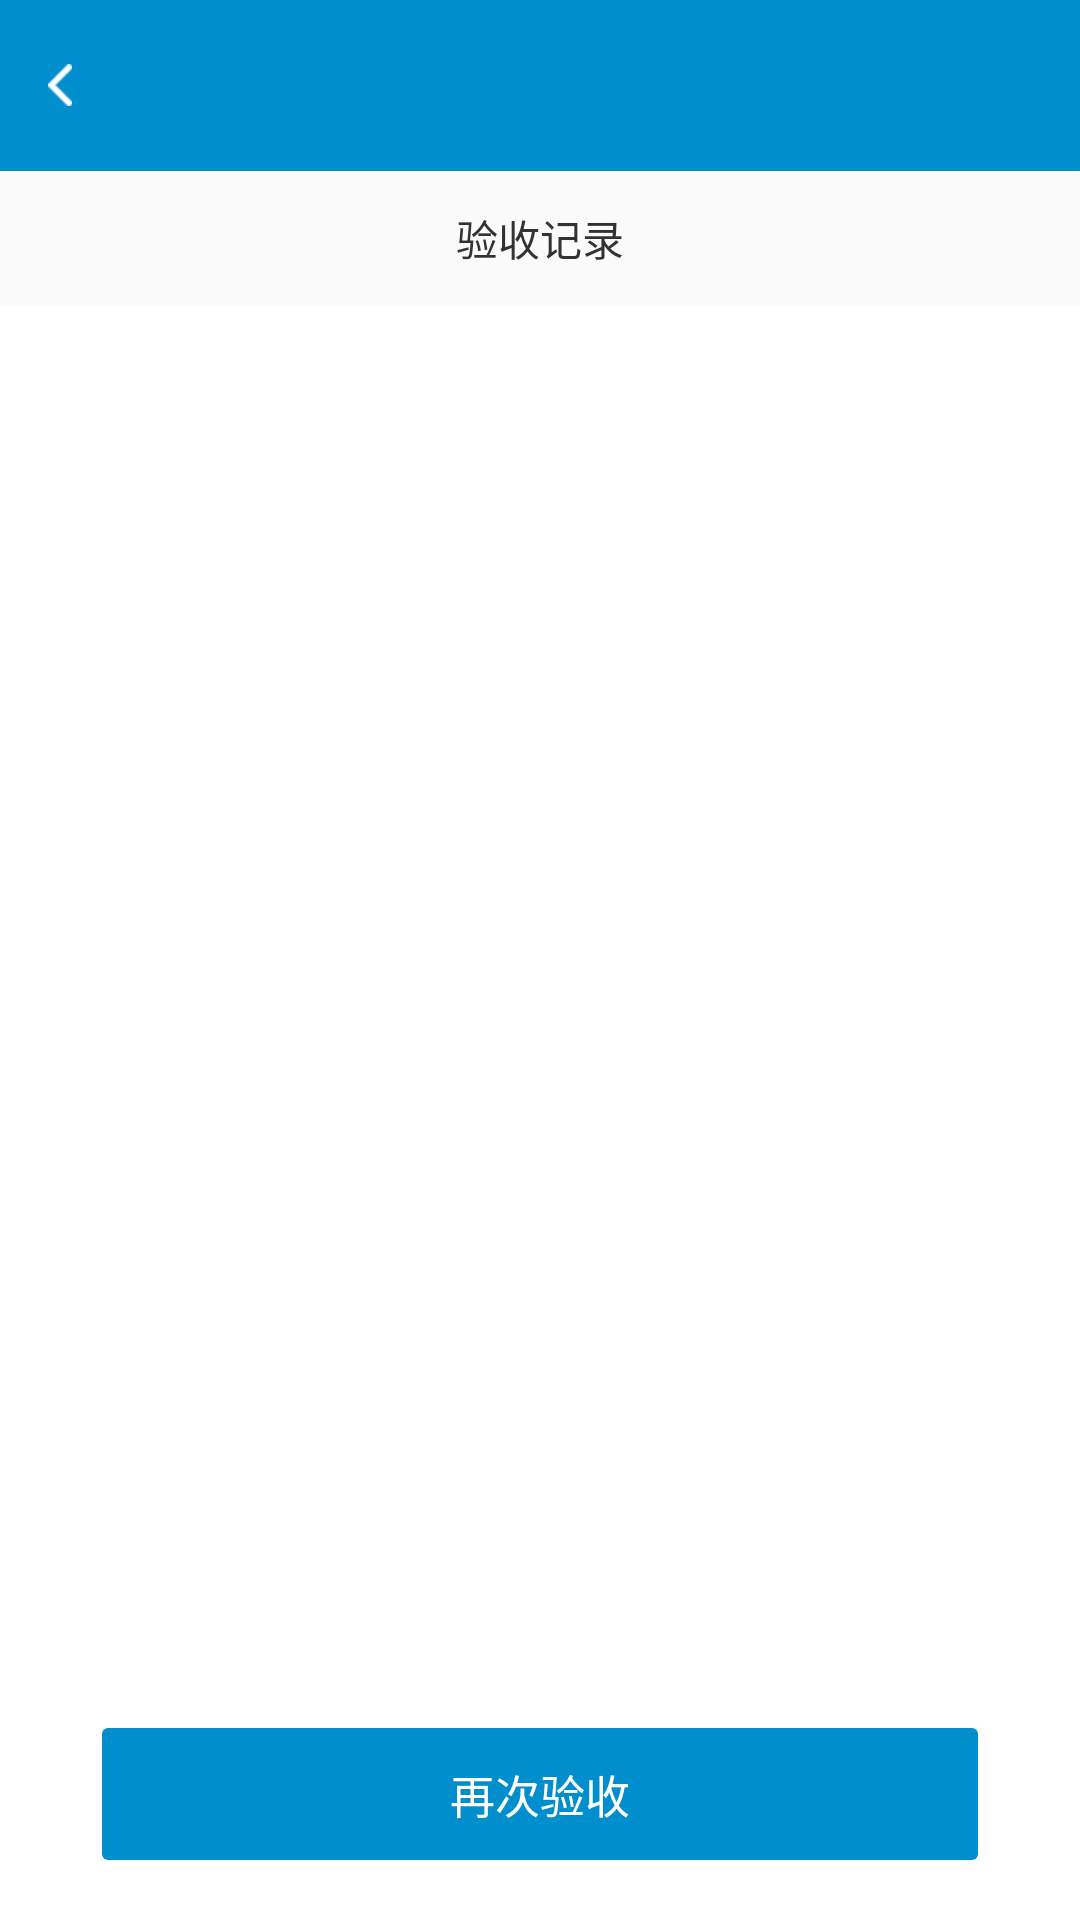

Named icons in this screenshot (1080 x 1920) and their bounding boxes, (x1, y1, x2, y2):
back: (48, 64, 72, 106)
